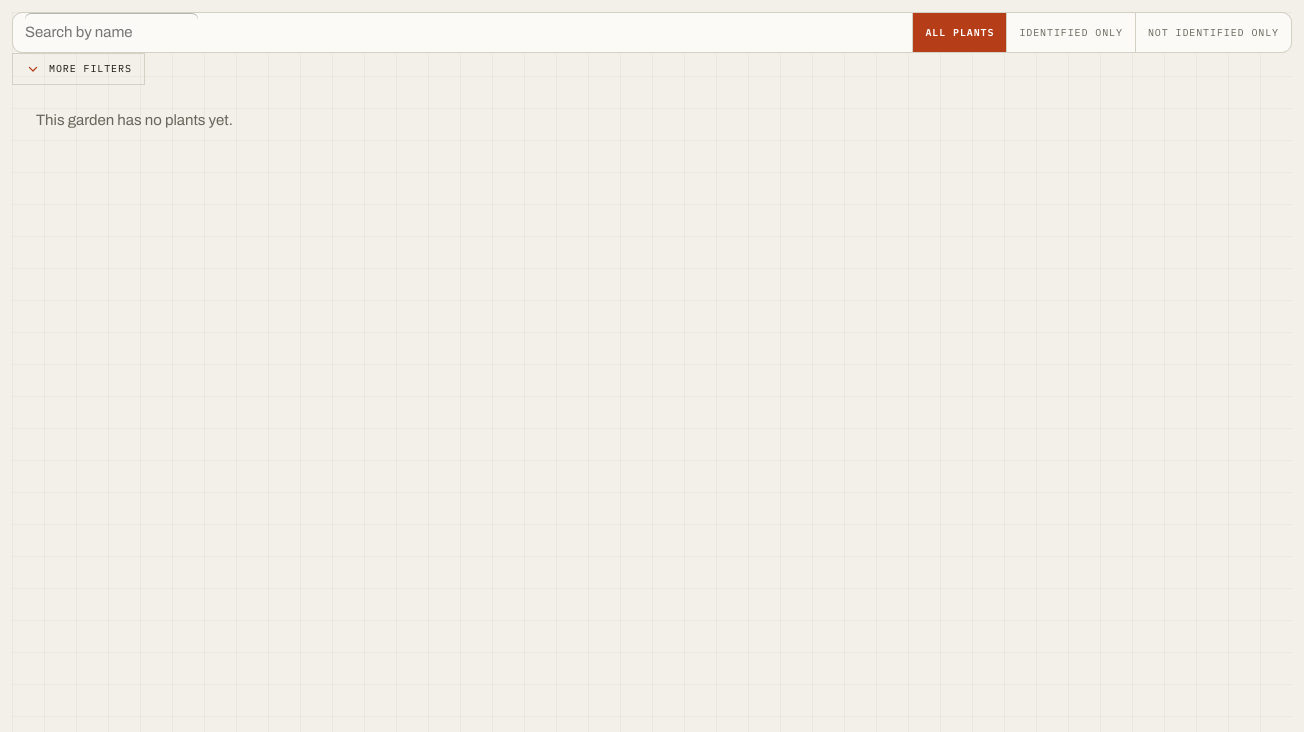
PlantList — filters in the URL › distinguishes a garden with no plants from filters that match none
Expected: the text "This garden has no plants yet." is shown, top-left (36, 112), bottom-right (233, 128)
Expected: the button "Clear filters" is not shown
Type "basil" into the field labelled "Search by name" at (112, 32), box top-left (25, 13), bottom-right (198, 52)
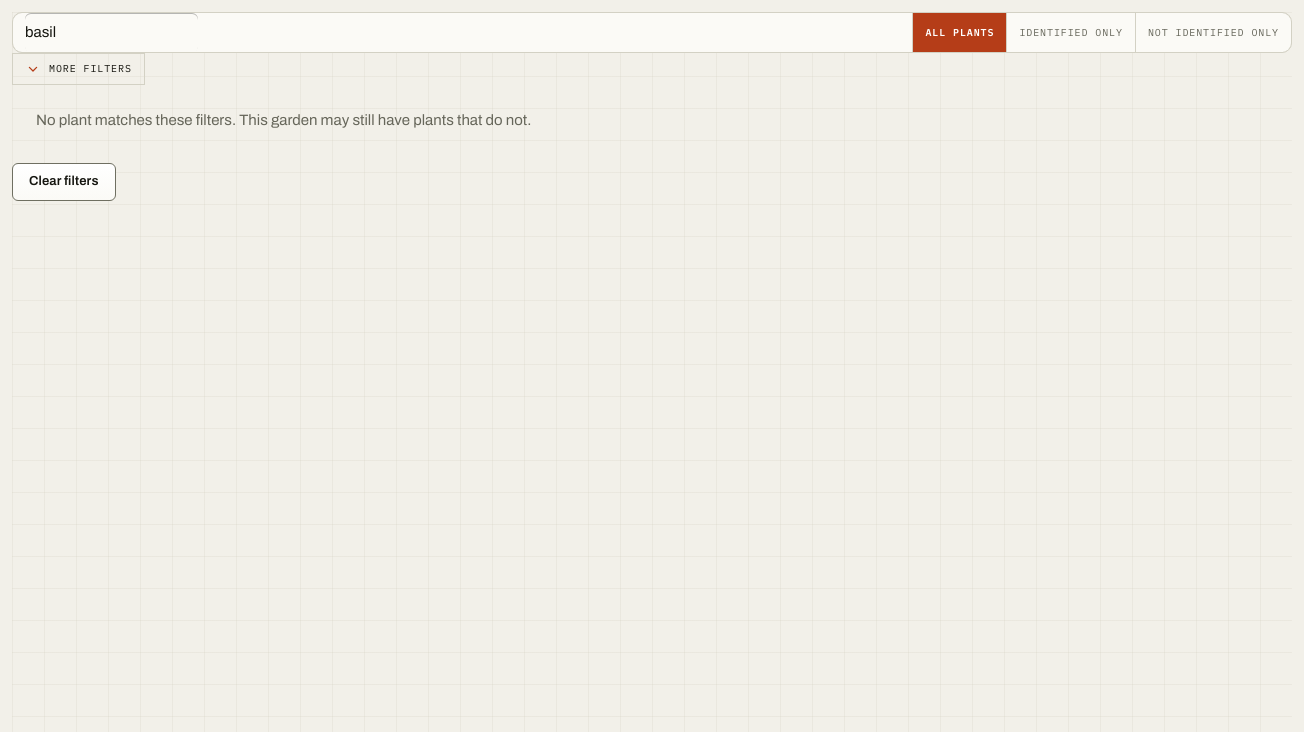
Result: the text "No plant matches these filters" is shown at top-left (36, 112), bottom-right (531, 128)
Result: the button "Clear filters" is shown at top-left (12, 163), bottom-right (116, 200)
